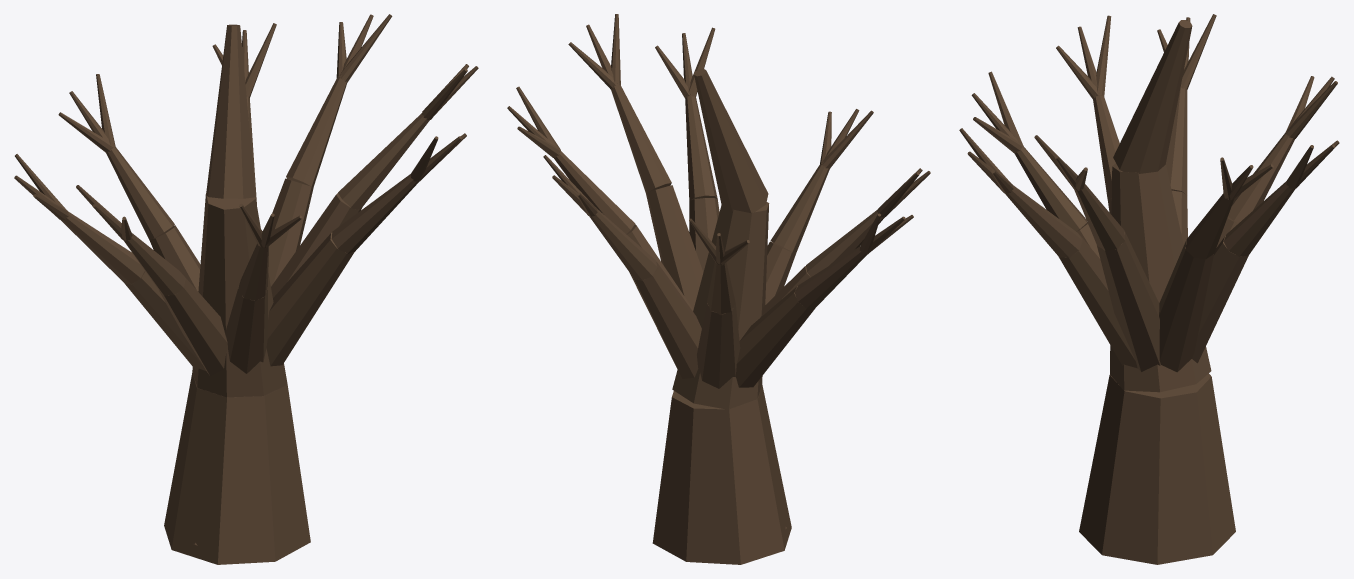
File: apple_ancient_winter_3.glb
The picture shows the model from 3 angles, left to right: view 1: azimuth 30°, elevation 25°; view 2: azimuth 150°, elevation 25°; view 3: azimuth 270°, elevation 25°; orthographic projection. The views are drawn at different scales.
Parts seen in each view (by area): view 1: apple_ancient_winter_3; view 2: apple_ancient_winter_3; view 3: apple_ancient_winter_3.
Boxes of the visible parts, x1,y1,x2,y2 form: apple_ancient_winter_3: (14,14,478,564); apple_ancient_winter_3: (507,14,930,564); apple_ancient_winter_3: (959,14,1339,564).
Bounding box in the file's own units: 14.44 × 16.98 × 11.38.
